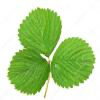Strawberry leaf: (50, 32, 96, 91), (5, 47, 58, 95), (18, 6, 63, 58)
